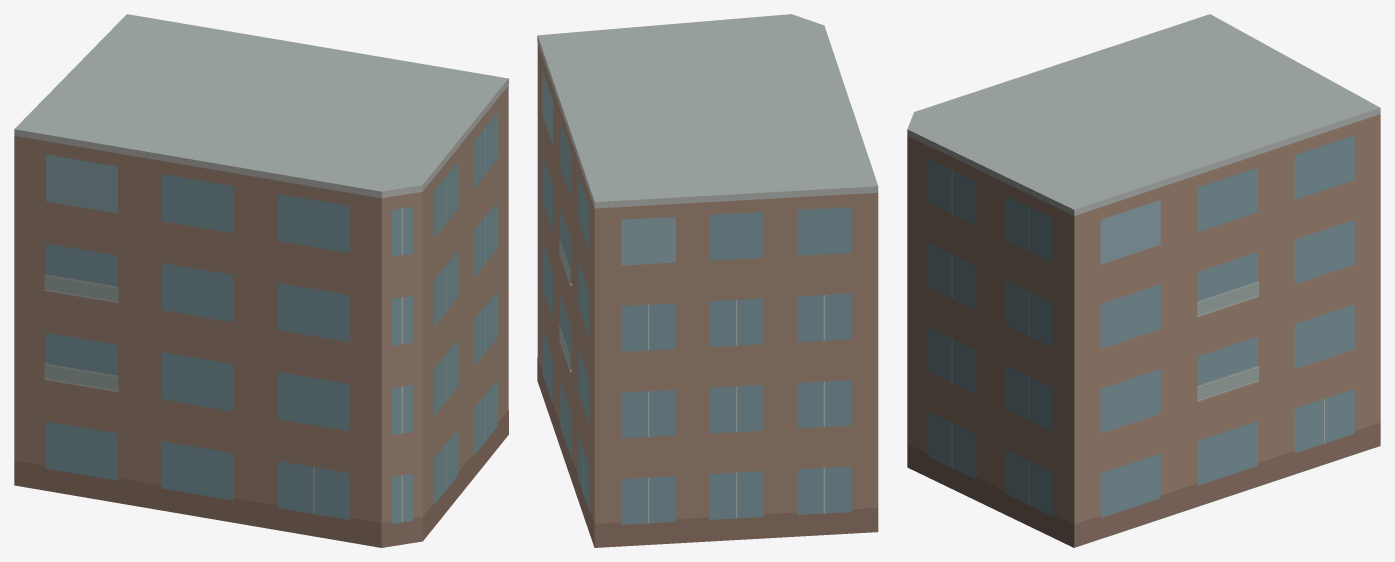
The model's file is survey-upis-32867119.glb.
3 views of the same model, side by side, from view 1: azimuth 30°, elevation 25°; view 2: azimuth 150°, elevation 25°; view 3: azimuth 270°, elevation 25° (orthographic). The views are drawn at different scales.
Parts seen in each view (by area): view 1: survey-upis-32867119.tmp; view 2: survey-upis-32867119.tmp; view 3: survey-upis-32867119.tmp.
Part boxes in pixels (x1=…): survey-upis-32867119.tmp: x1=14, y1=14, x2=508, y2=547; survey-upis-32867119.tmp: x1=537, y1=14, x2=878, y2=547; survey-upis-32867119.tmp: x1=907, y1=14, x2=1380, y2=547.
Size of the model in its own units: 16.41 by 13.2 by 16.76.
